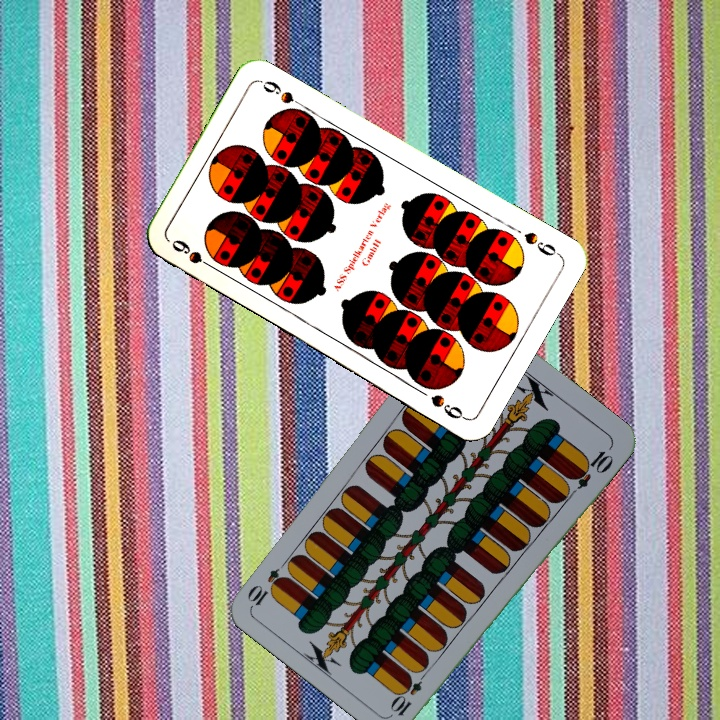E10: (388, 665, 431, 719)
S9: (167, 235, 220, 273), (520, 228, 563, 259)
